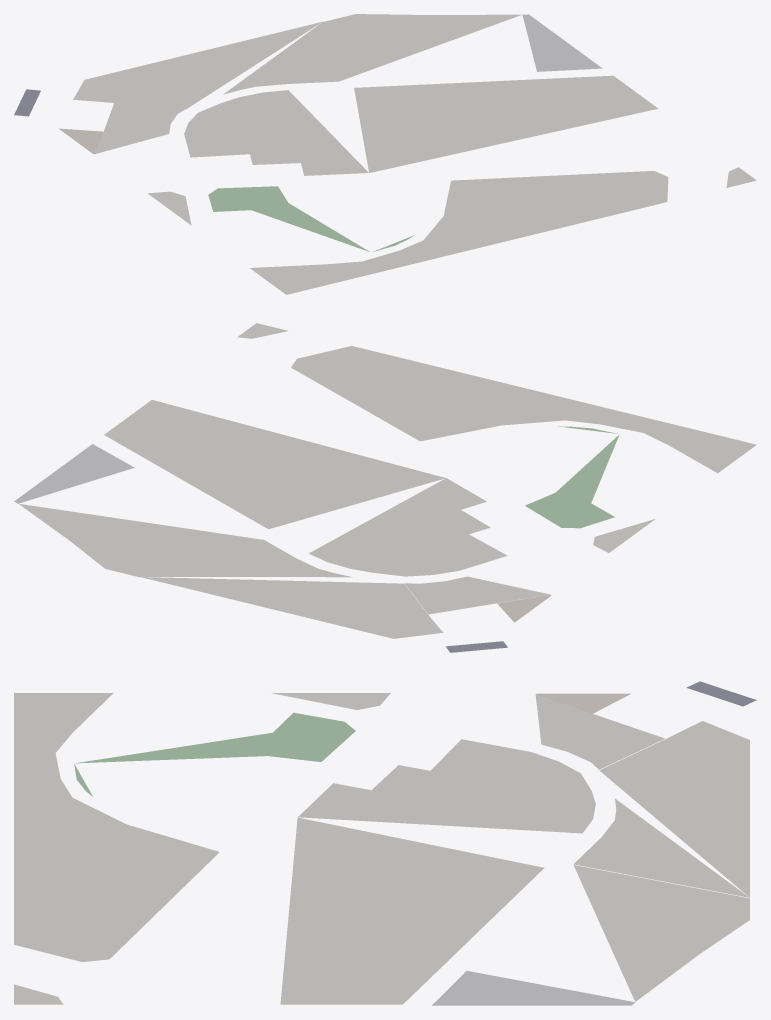
The model's file is 108_111_mid.glb.
3 views of the same model, one above another, from view 1: azimuth 30°, elevation 25°; view 2: azimuth 150°, elevation 25°; view 3: azimuth 270°, elevation 25° (orthographic). The views are drawn at different scales.
Size of the model in its own units: 520 by 2.81 by 505.
